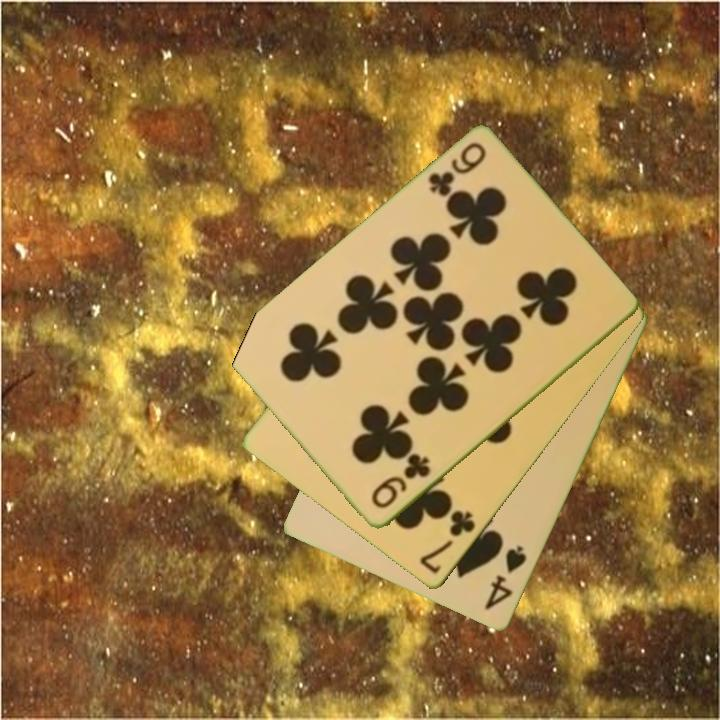4s: (481, 542, 530, 614)
7c: (416, 507, 479, 578)
9c: (367, 451, 434, 513), (424, 139, 490, 201)
